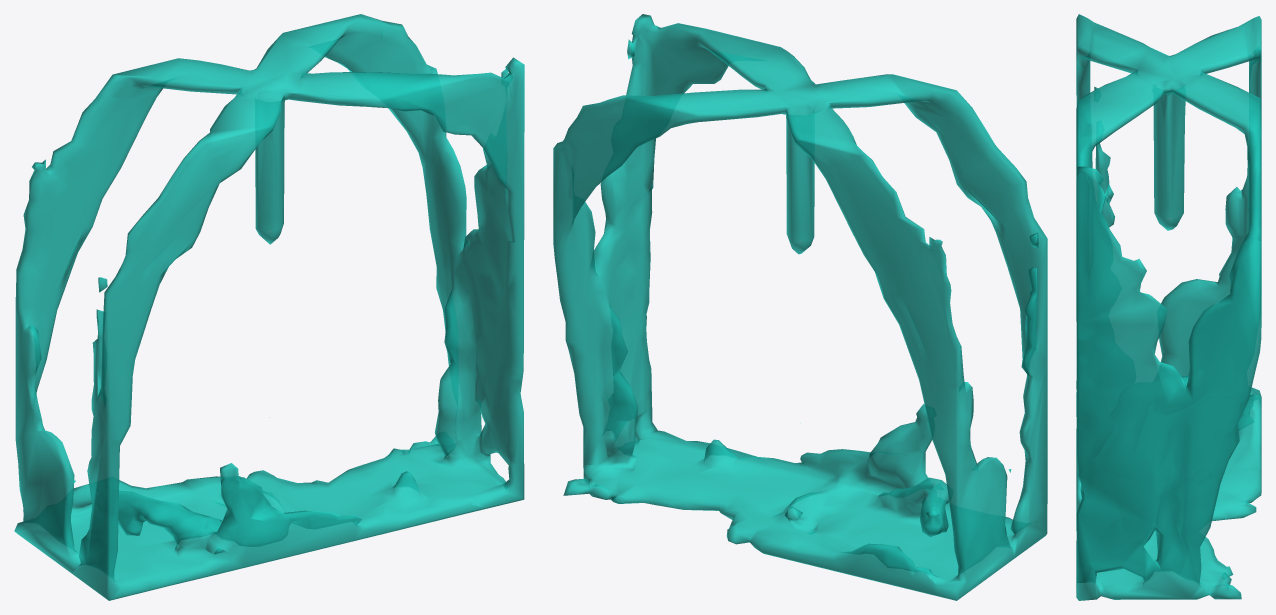
3 renders of one model, left to right at view 1: azimuth 30°, elevation 25°; view 2: azimuth 150°, elevation 25°; view 3: azimuth 270°, elevation 25°, orthographic. The views are drawn at different scales.
Parts seen in each view (by area): view 1: Liquid_Domain; view 2: Liquid_Domain; view 3: Liquid_Domain.
Boxes of the visible parts, x1,y1,x2,y2 form: Liquid_Domain: (14, 14, 524, 600); Liquid_Domain: (553, 14, 1047, 600); Liquid_Domain: (1076, 14, 1261, 600).
Size of the model in its own units: 885 by 884 by 345.
